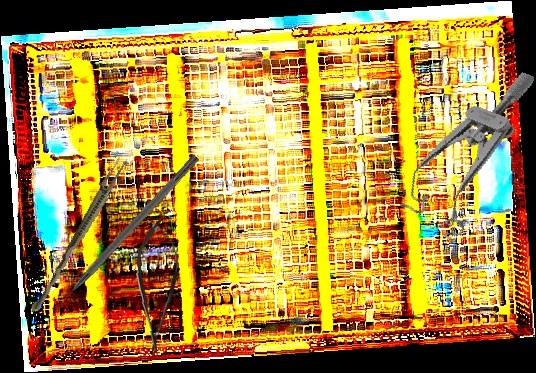Hook Surgical: (47, 153, 201, 316)
Micro Scissor: (133, 218, 181, 358)
Speculum: (394, 48, 535, 250)
Tissue Forceps: (29, 154, 129, 317)
